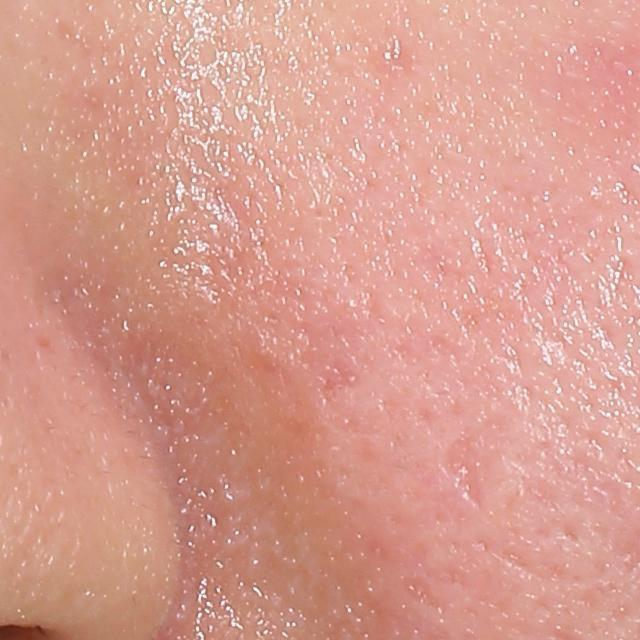atrophic_scar: (431, 411, 488, 515), (492, 544, 568, 588)
